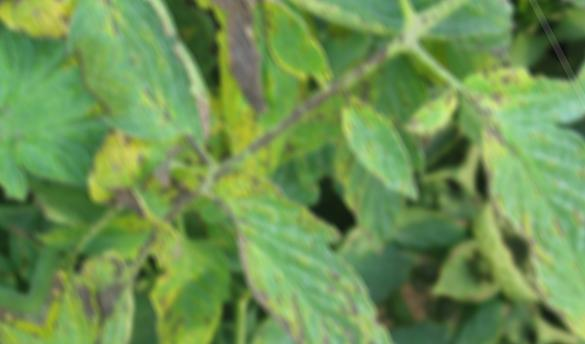Tomato leaf bacterial spot: (184, 130, 405, 344), (212, 0, 517, 143), (425, 21, 585, 252), (73, 31, 244, 195), (0, 68, 163, 231), (109, 222, 274, 344), (322, 80, 436, 222), (242, 0, 343, 107), (20, 253, 135, 344), (393, 85, 474, 152)
